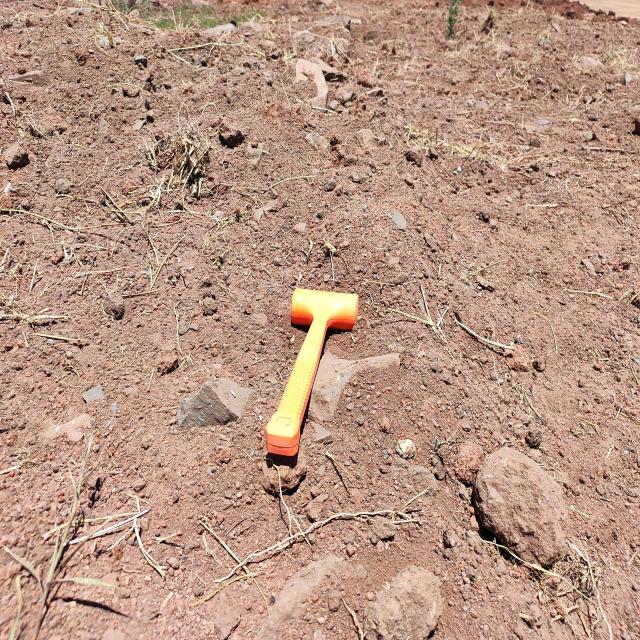Orange_hammer: (265, 286, 359, 457)
